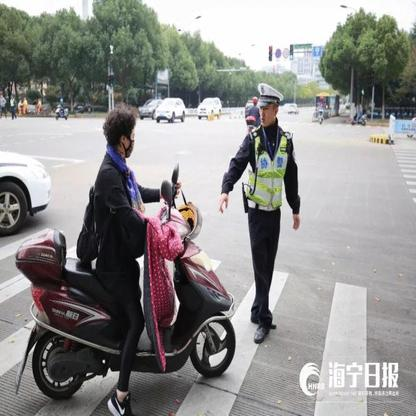target: (15, 101, 238, 401)
